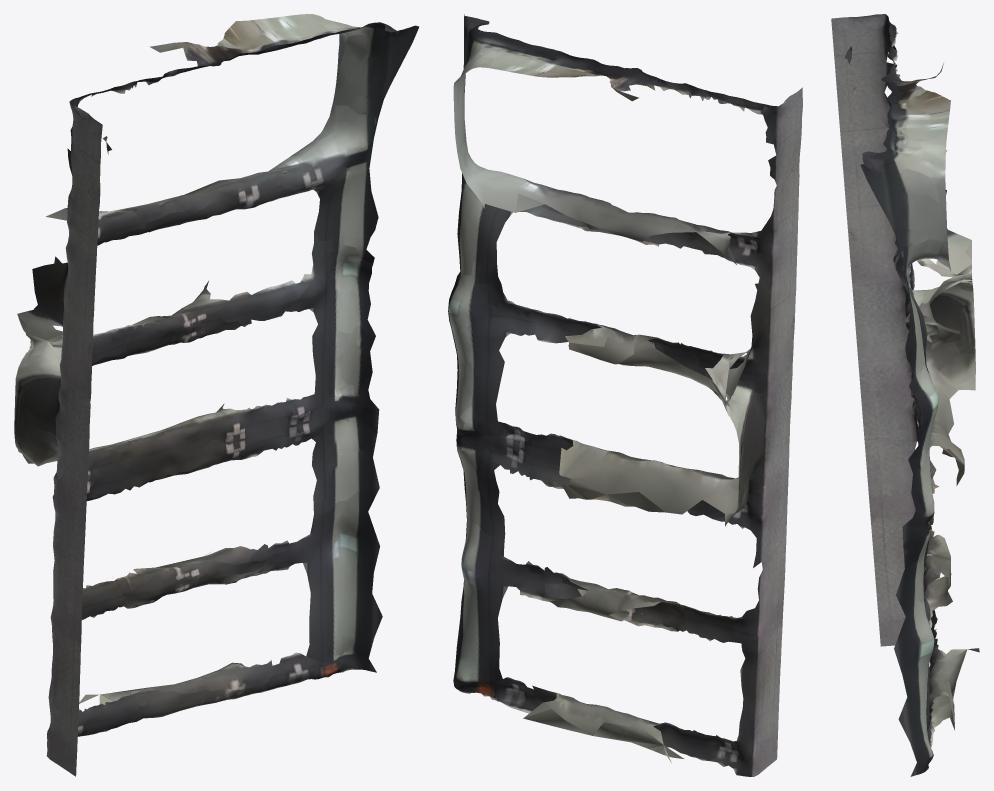
The model's file is 정문뒤편.fbx.
The picture shows the model from 3 angles, left to right: view 1: azimuth 30°, elevation 25°; view 2: azimuth 150°, elevation 25°; view 3: azimuth 270°, elevation 25°; orthographic projection. The views are drawn at different scales.
Visible parts, largest first — view 1: Untitled.001; view 2: Untitled.001; view 3: Untitled.001.
Boxes of the visible parts, box(x1,y1,x2,y2) form: Untitled.001: box(14, 14, 418, 776); Untitled.001: box(448, 14, 802, 776); Untitled.001: box(831, 14, 979, 776).
Size of the model in its own units: 971 by 1837 by 389.
1 material, 1 textured.
